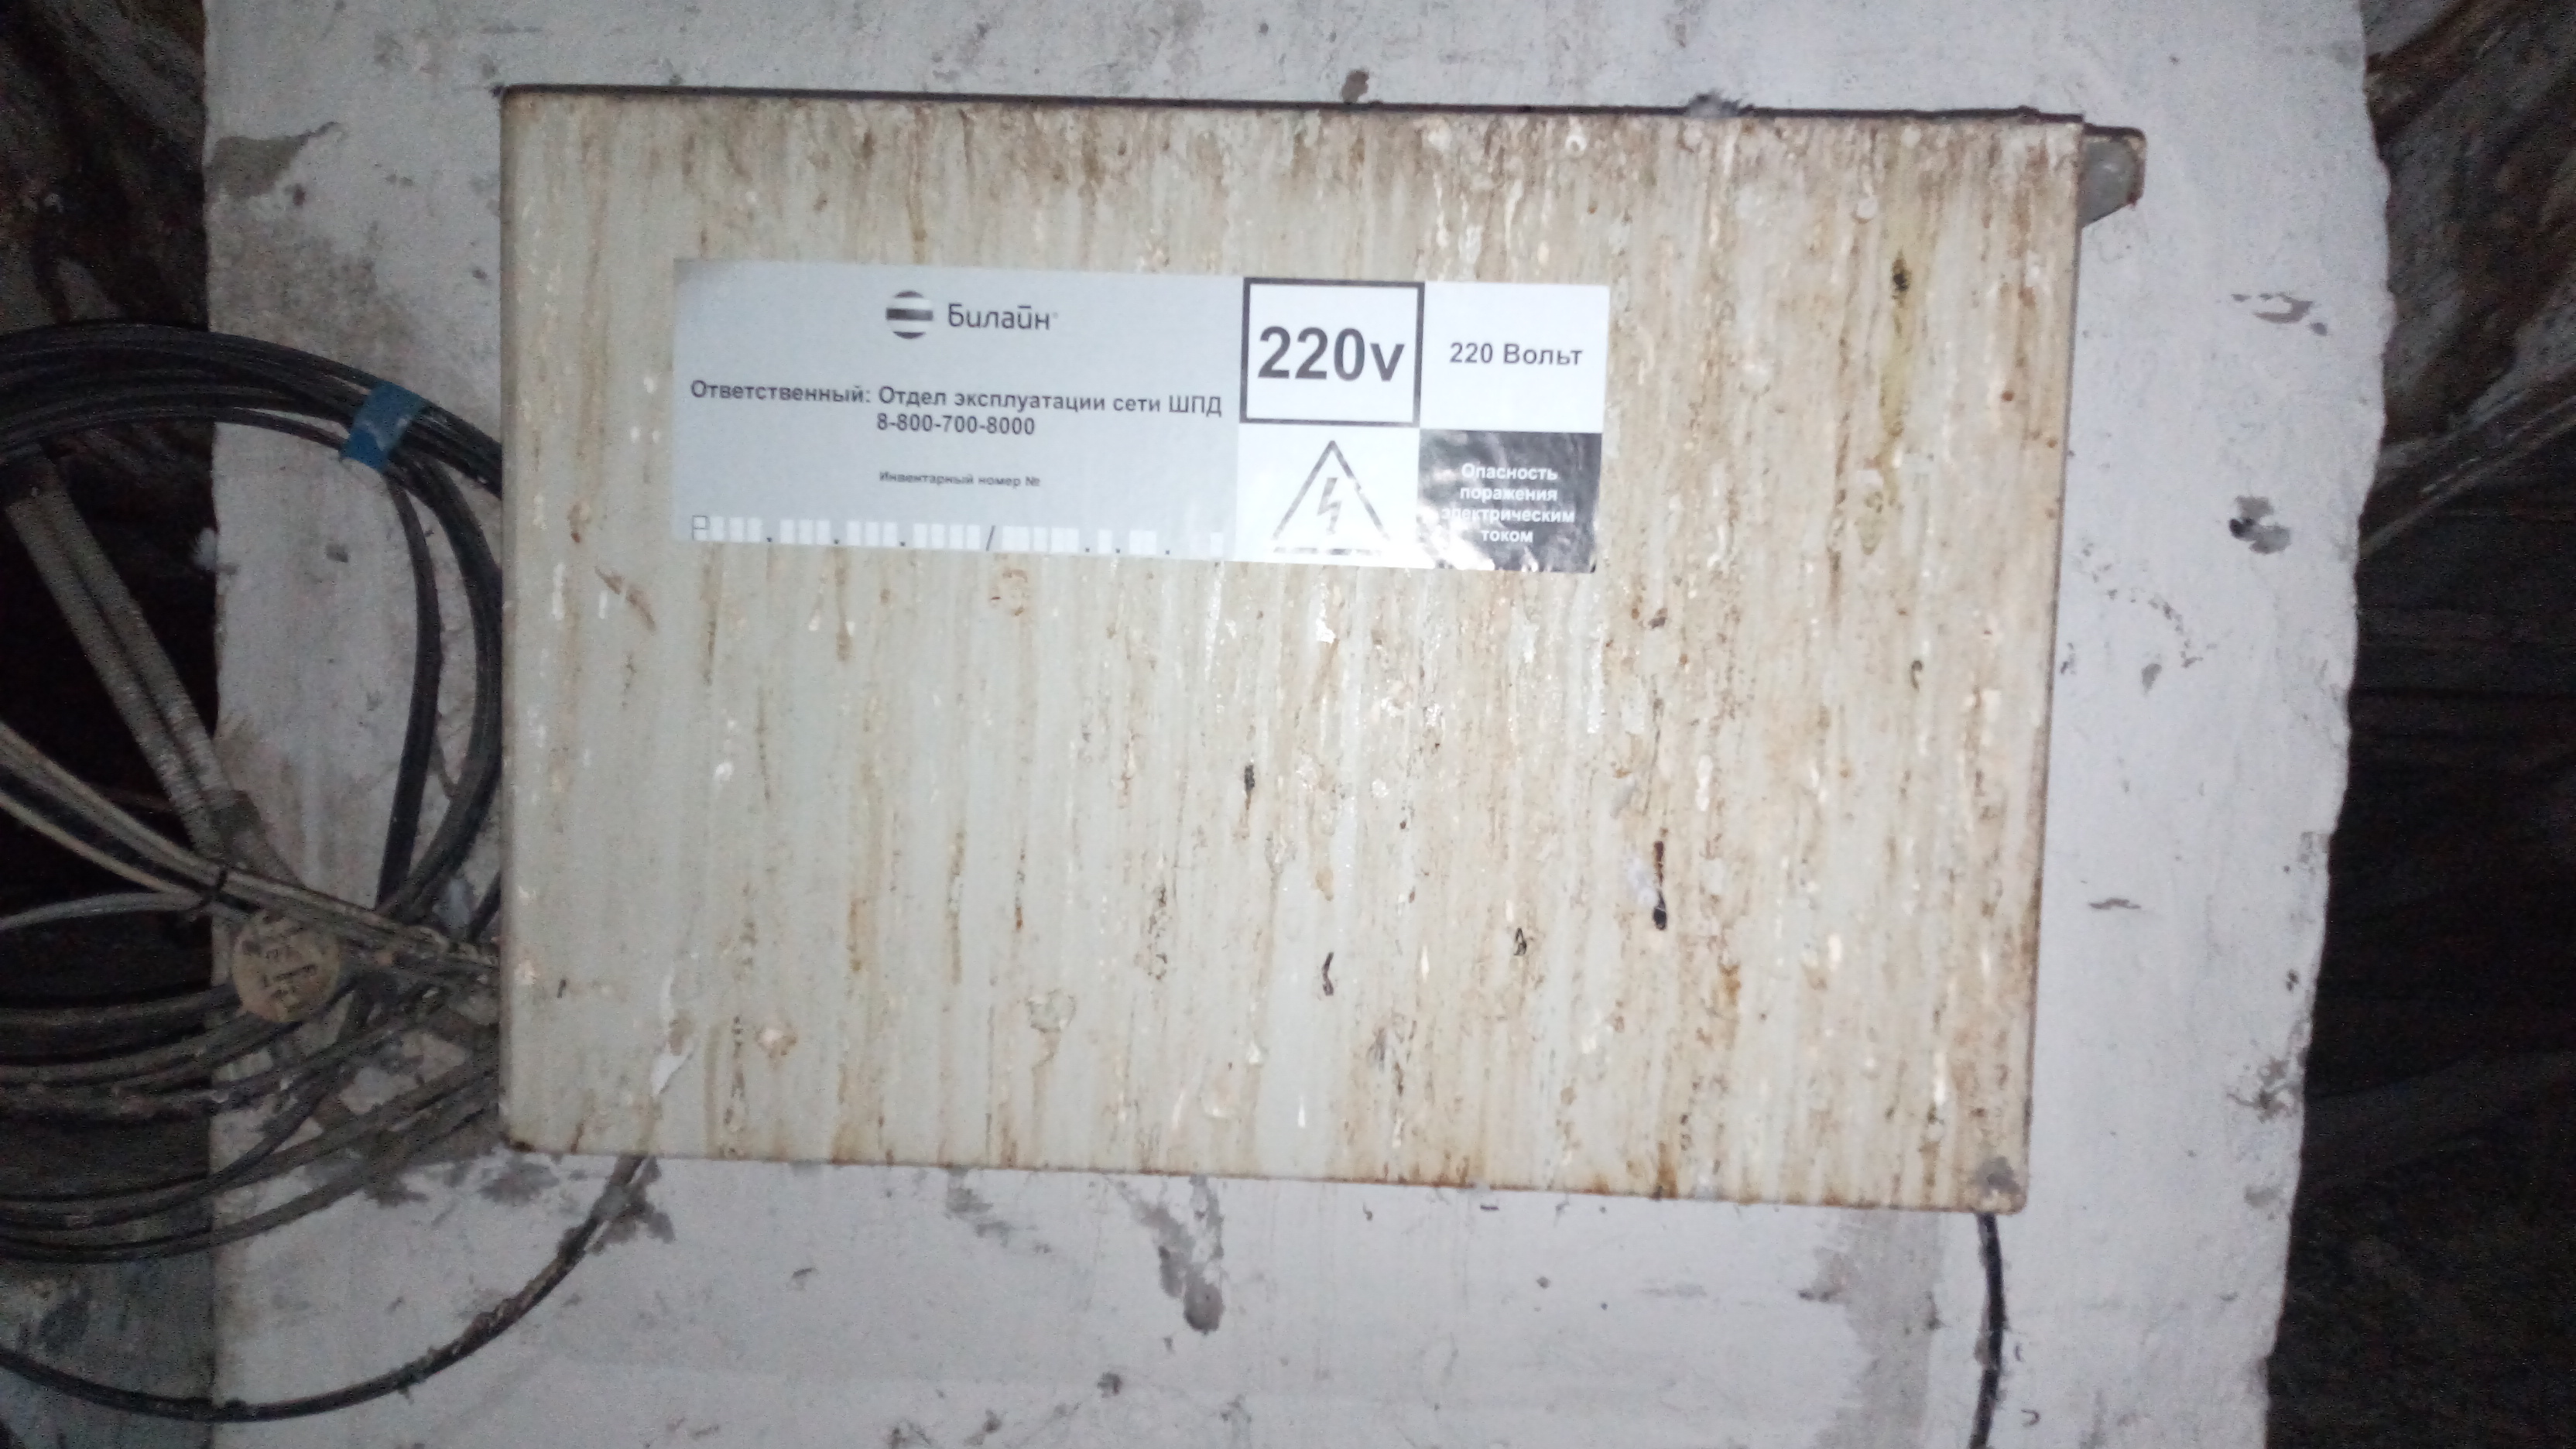sv-5: (471, 62, 2105, 1226)
